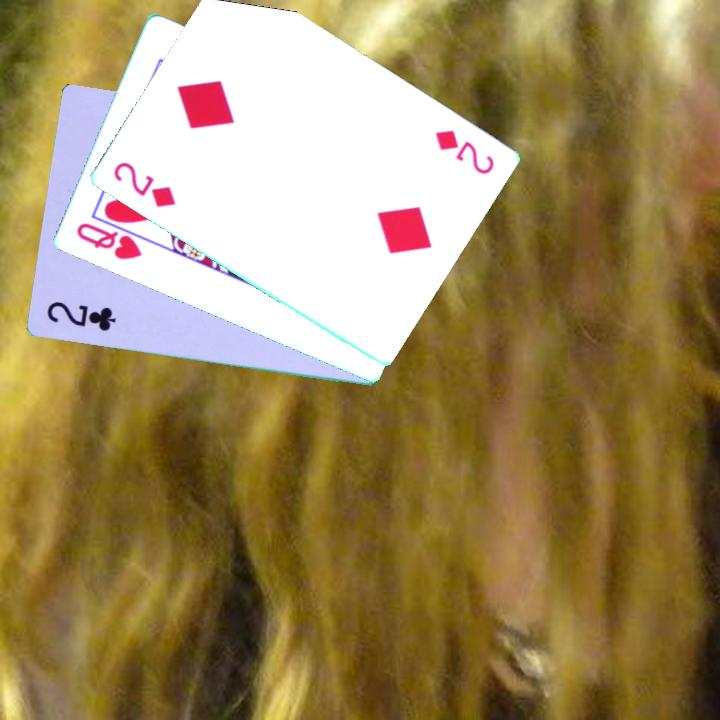2c: (42, 298, 118, 335)
2d: (109, 158, 179, 211), (431, 126, 497, 178)
Qh: (72, 219, 145, 263)
